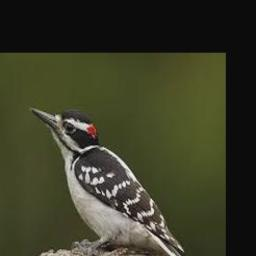Woodpecker: (30, 106, 188, 256)
